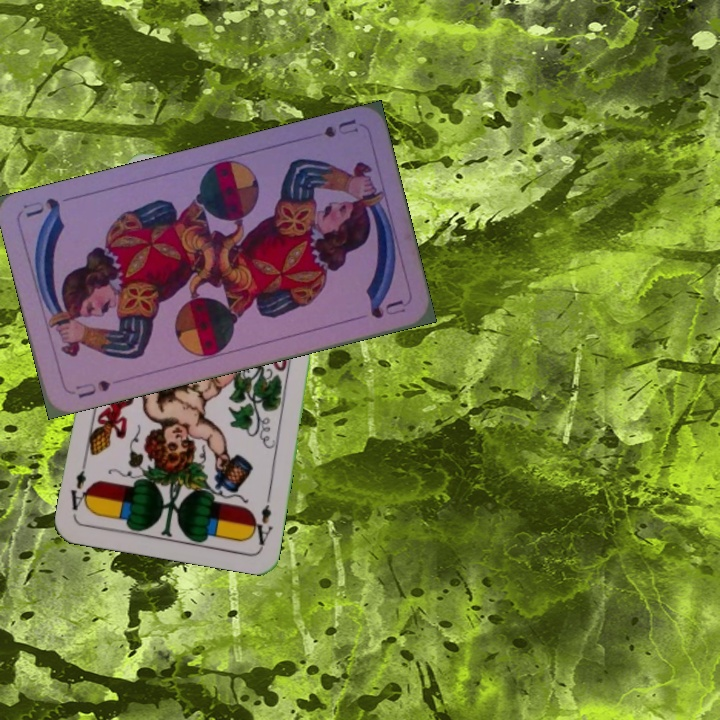EA: (246, 490, 276, 548)
SU: (320, 115, 361, 141), (71, 376, 113, 401)
